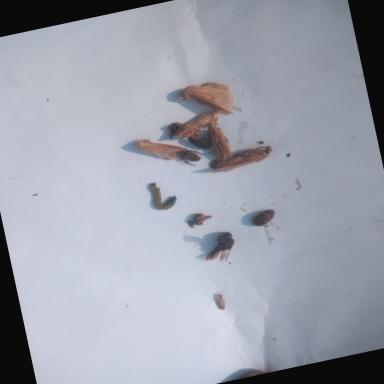abw: (174, 74, 242, 127), (201, 142, 277, 180), (132, 129, 186, 171), (168, 110, 228, 140), (199, 122, 237, 160)
pbw: (214, 294, 228, 310)
